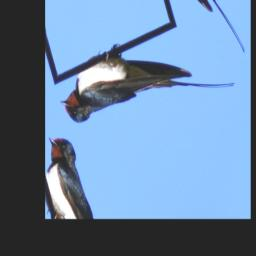Swallow: (57, 0, 238, 204)
